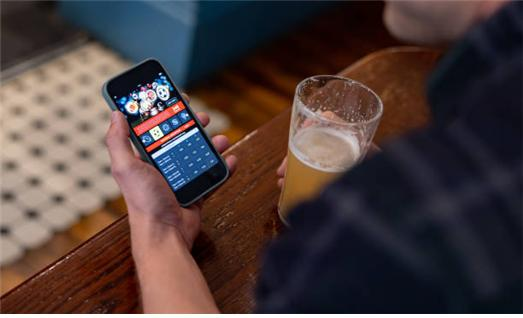alcohol: (279, 72, 383, 229)
